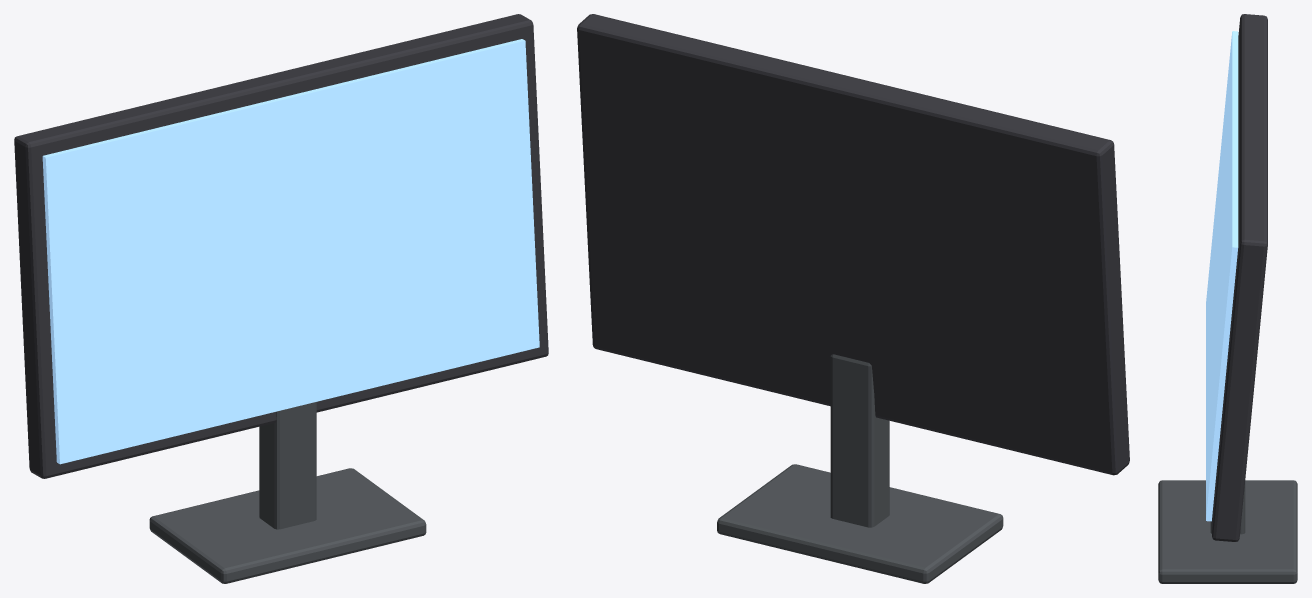
Rendered from monitor.glb.
3 views of the same model, side by side, from view 1: azimuth 30°, elevation 25°; view 2: azimuth 150°, elevation 25°; view 3: azimuth 270°, elevation 25° (orthographic). The views are drawn at different scales.
Visible parts, largest first — view 1: monitor; view 2: monitor; view 3: monitor.
Part boxes in pixels (x1,y1,x2,y2): monitor: (14, 14, 548, 583); monitor: (577, 14, 1129, 583); monitor: (1158, 14, 1297, 583).
Size of the model in its own units: 0.545 by 0.4577 by 0.14.
